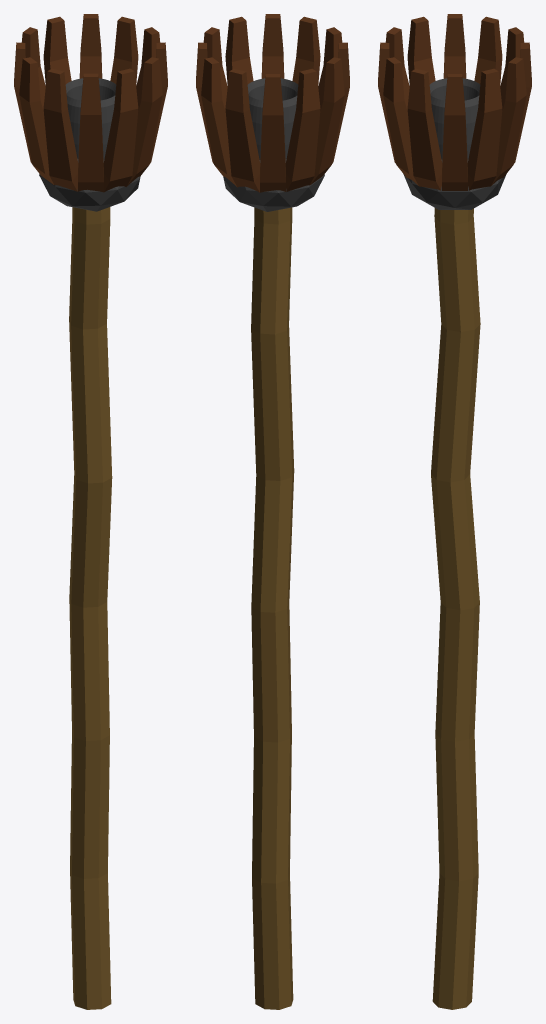
The model's file is Fackel Feuer.fbx.
3 views of the same model, side by side, from view 1: azimuth 30°, elevation 25°; view 2: azimuth 150°, elevation 25°; view 3: azimuth 270°, elevation 25° (orthographic).
Visible parts, largest first — view 1: Cube.003; view 2: Cube.003; view 3: Cube.003.
Boxes of the visible parts, x1,y1,x2,y2 form: Cube.003: (14,14,167,1009); Cube.003: (196,14,349,1009); Cube.003: (378,14,531,1009).
Bounding box in the file's own units: 94.33 × 647 × 94.33.
